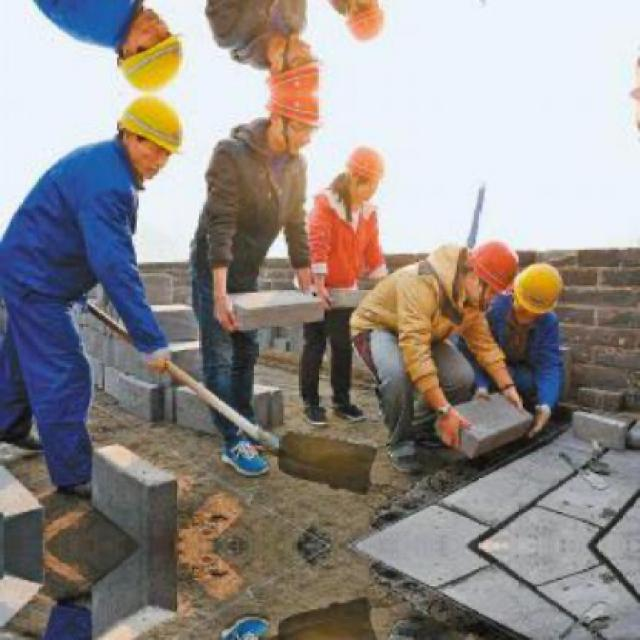helmet: (109, 6, 194, 93), (109, 96, 194, 182), (258, 96, 328, 160), (258, 28, 328, 92), (463, 232, 520, 306), (512, 261, 568, 319), (340, 140, 386, 210), (339, 0, 387, 49)
